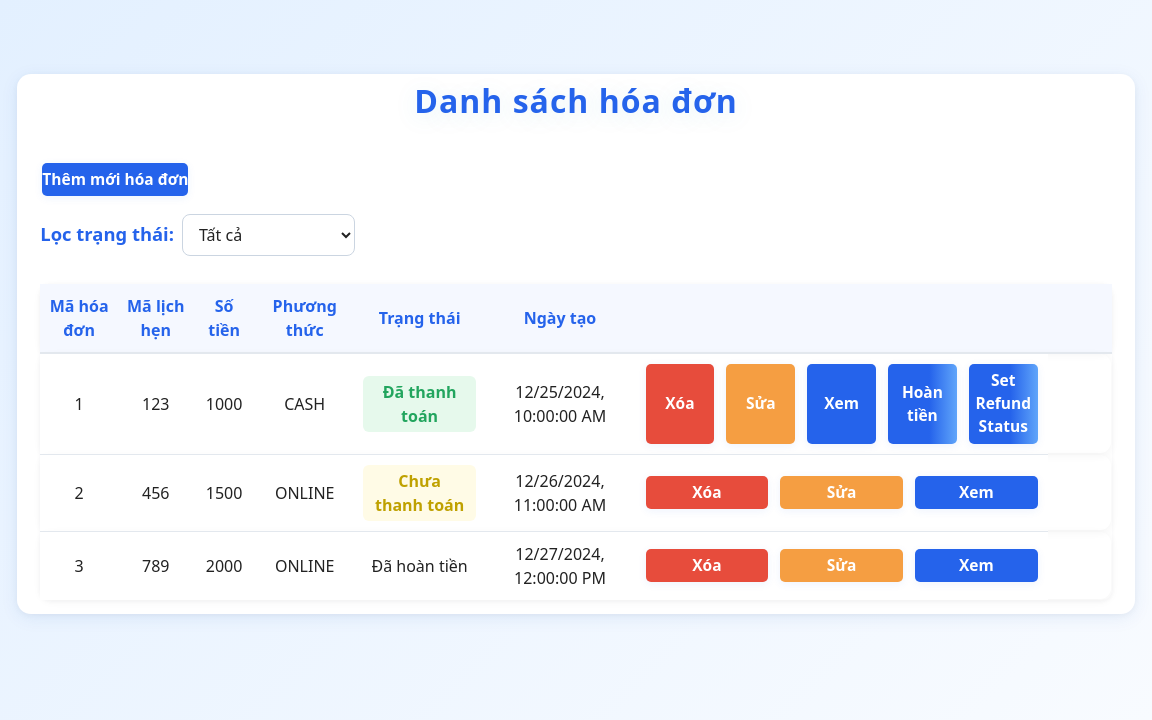
it: InvoiceList › handles view invoice
Expected: the text "1" is shown, [40,353,118,454]
Click the button "Xem" in the row of "123".
click(842, 404)  # box [807,364,876,444]
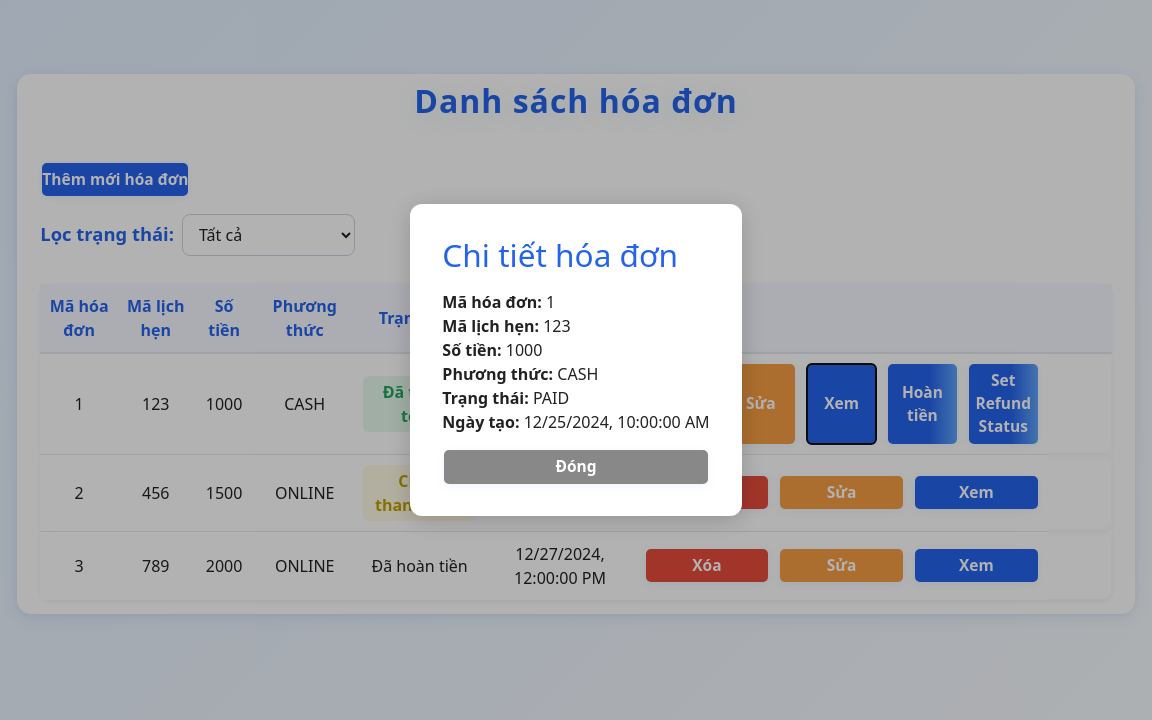
Result: the heading "Chi tiết hóa đơn" is shown at [442,236,710,274]
